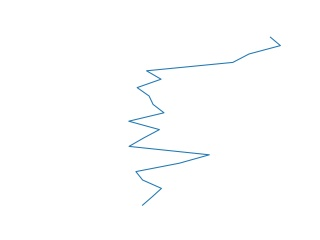crevasseRiverChannelBar: (125, 35, 286, 212)
